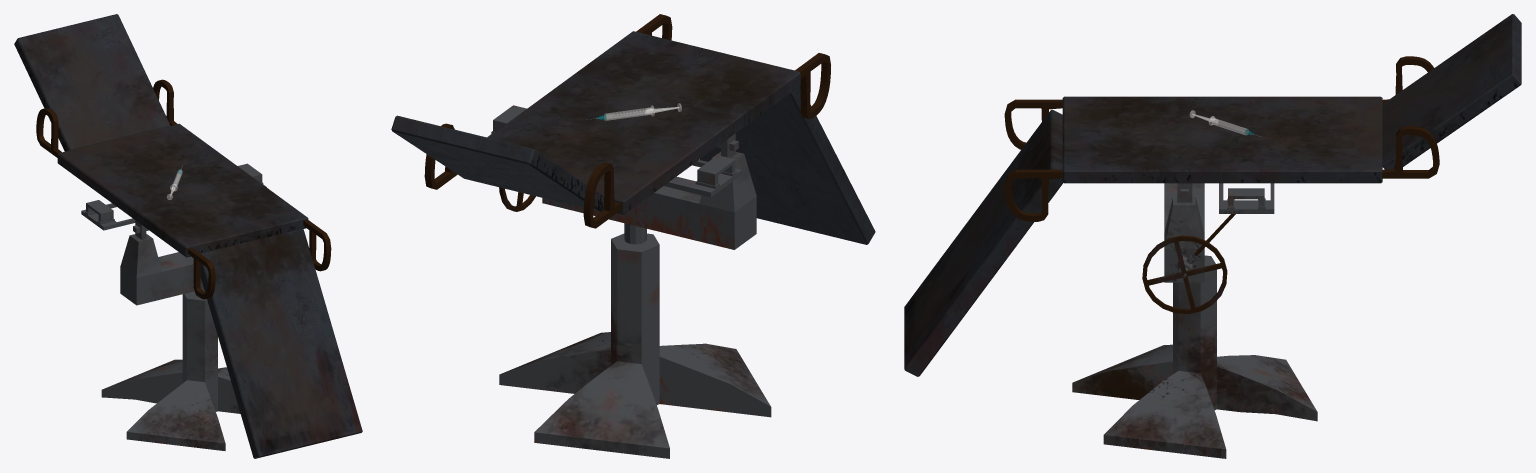
File: asylum_gurney.glb
3 renders of one model, left to right at view 1: azimuth 30°, elevation 25°; view 2: azimuth 150°, elevation 25°; view 3: azimuth 270°, elevation 25°, orthographic. The views are drawn at different scales.
Parts seen in each view (by area): view 1: polySurface40_Chair_bedding_0, polySurface40_Chair_base_0, polySurface40_Chair_mechanics_0; view 2: polySurface40_Chair_bedding_0, polySurface40_Chair_base_0, polySurface40_Chair_mechanics_0, pCylinder34_Syringe_0; view 3: polySurface40_Chair_bedding_0, polySurface40_Chair_base_0, polySurface40_Chair_mechanics_0.
Part boxes in pixels (x1=…): polySurface40_Chair_bedding_0: x1=14, y1=14, x2=362, y2=458; polySurface40_Chair_base_0: x1=81, y1=163, x2=266, y2=451; polySurface40_Chair_mechanics_0: x1=36, y1=79, x2=331, y2=299; polySurface40_Chair_bedding_0: x1=391, y1=31, x2=875, y2=244; polySurface40_Chair_base_0: x1=487, y1=105, x2=771, y2=458; polySurface40_Chair_mechanics_0: x1=424, y1=14, x2=830, y2=228; pCylinder34_Syringe_0: x1=596, y1=103, x2=681, y2=120; polySurface40_Chair_bedding_0: x1=904, y1=14, x2=1521, y2=376; polySurface40_Chair_base_0: x1=1072, y1=183, x2=1317, y2=458; polySurface40_Chair_mechanics_0: x1=1004, y1=56, x2=1439, y2=313.
Size of the model in its own units: 0.7602 by 1.21 by 1.88.
Materials: 4 (4 with a texture image).
